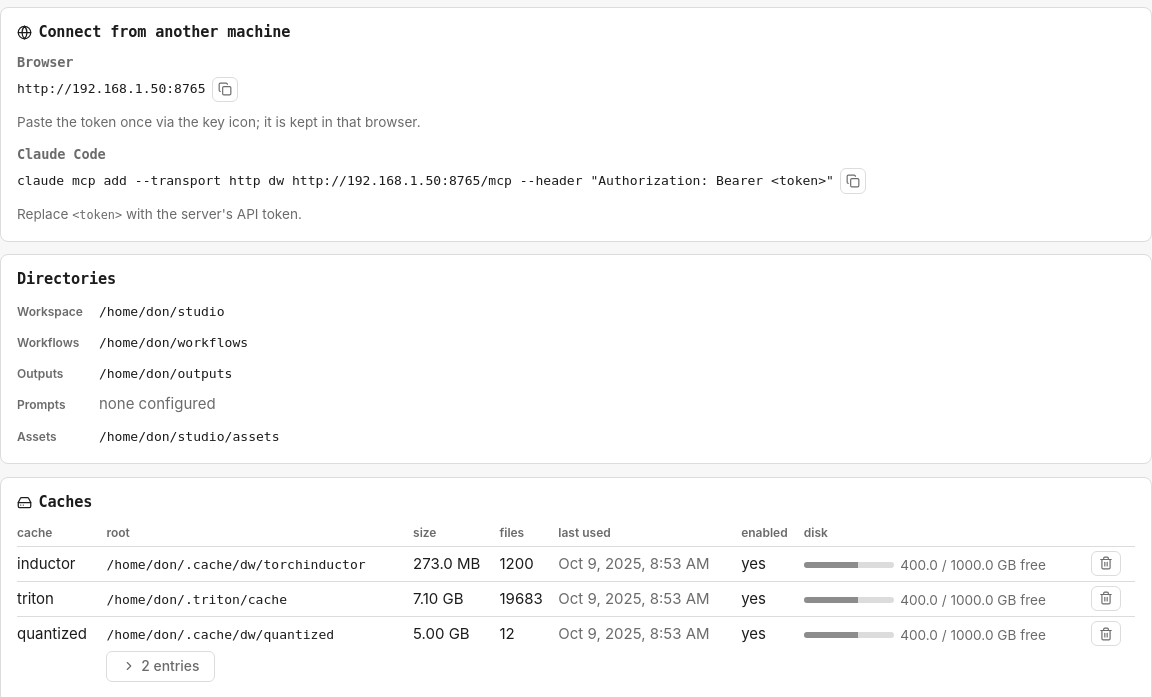
it: shows the server's text when an entry delete is refused
(page scrolled)
Click the button with class "entrytoggle".
click(161, 666)  # box left=106, top=651, right=215, bottom=682
(page scrolled)
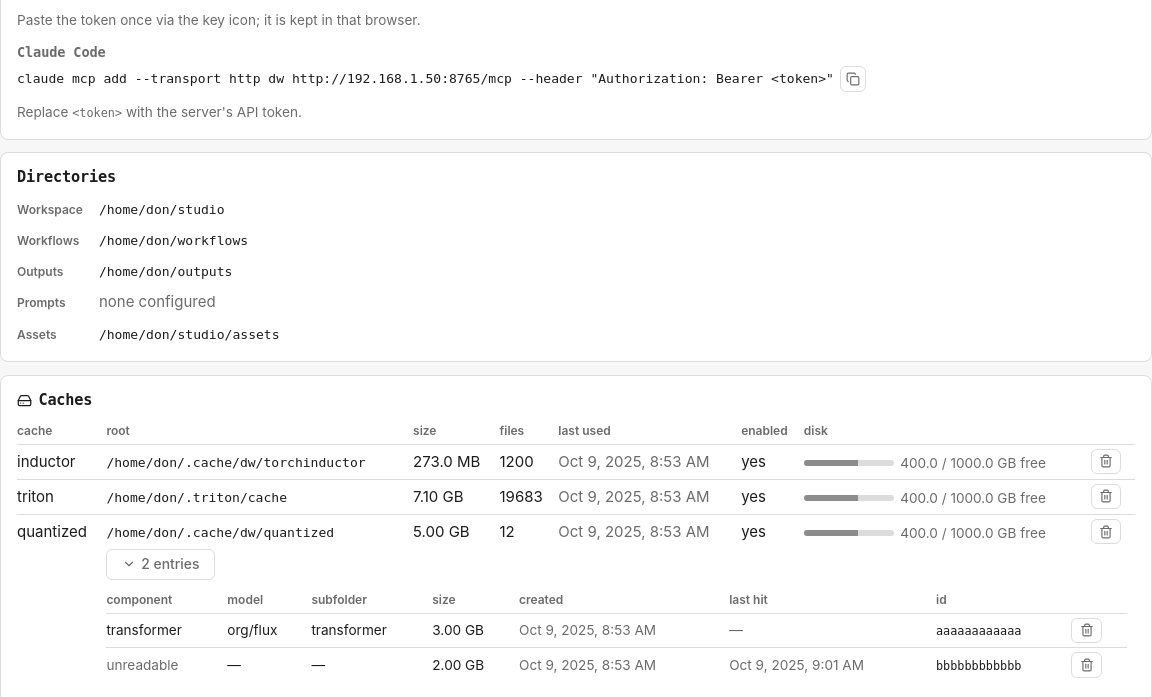
Click the button named "delete unreadable from the quantized cache".
click(1087, 665)  # box left=1071, top=652, right=1102, bottom=678
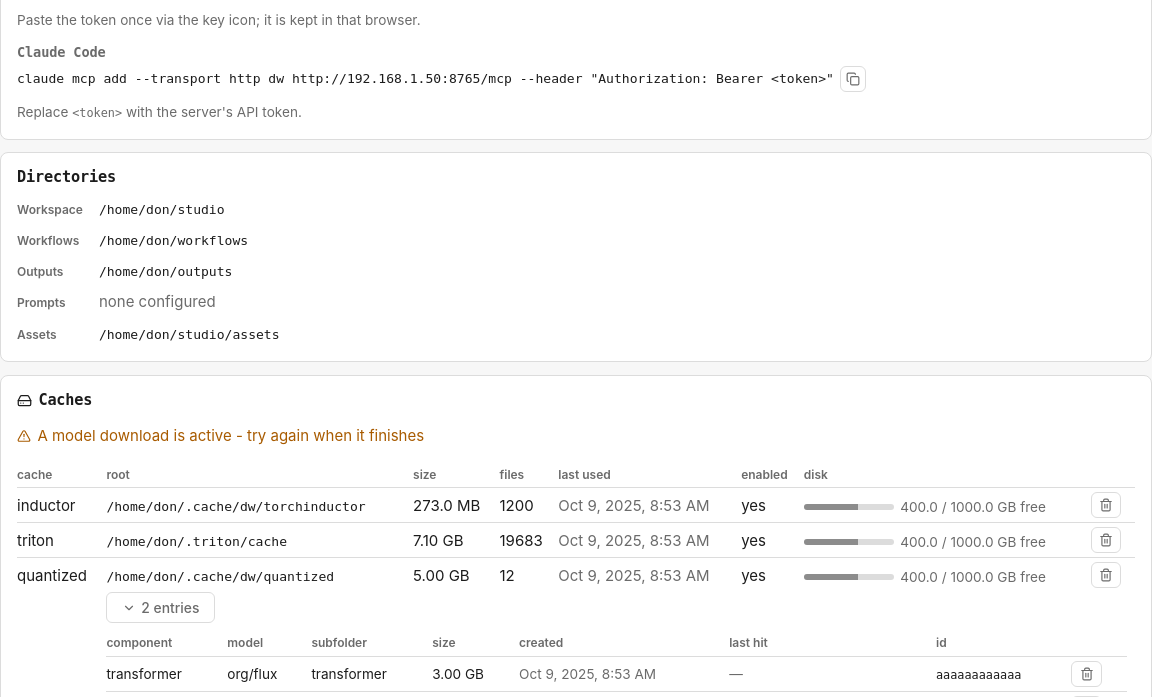
Check: the text "A model download is active - try again when it finishes" is shown, box left=17, top=426, right=424, bottom=445
